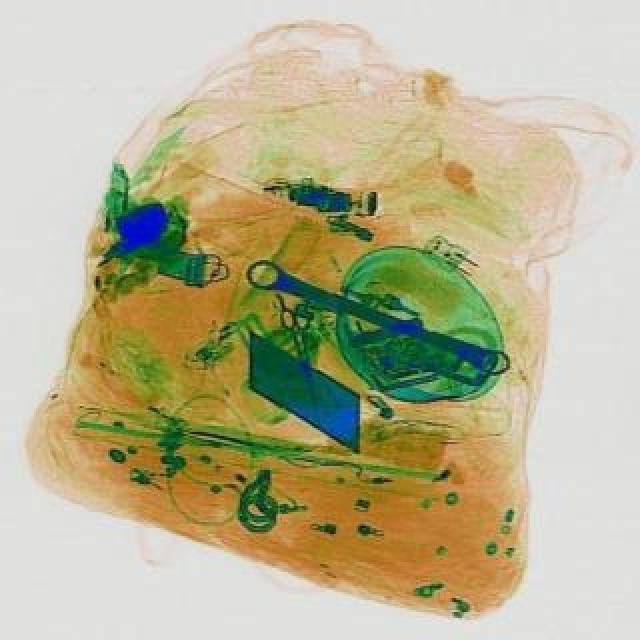scissors: (242, 252, 518, 380)
